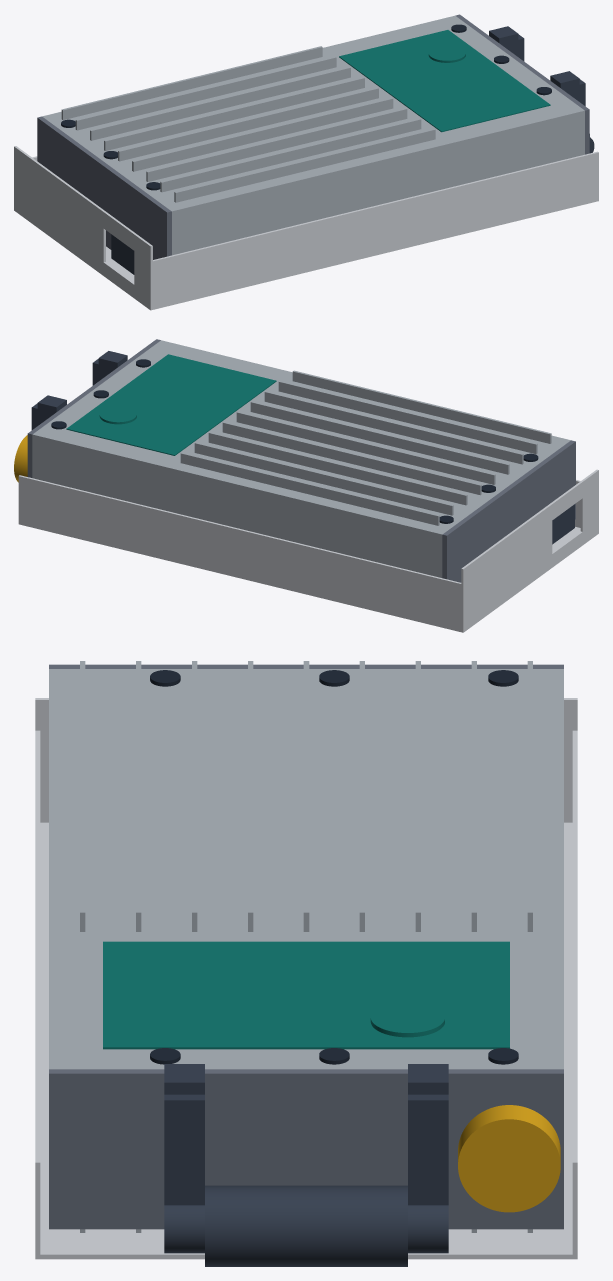
3 views of the same model, one above another, from view 1: azimuth 30°, elevation 25°; view 2: azimuth 150°, elevation 25°; view 3: azimuth 270°, elevation 25° (orthographic). The views are drawn at different scales.
Parts seen in each view (by area): view 1: Cartridge shell, finned aluminium tube, Cabinet adapter frame, Grade label and melt indicator, End cap, keyed end, Handle (folding bail) and keyed nose, End caps with O-ring seals (2), Cap screws, Keyed nose; view 2: Cartridge shell, finned aluminium tube, Cabinet adapter frame, Grade label and melt indicator, End cap, keyed end, Handle (folding bail) and keyed nose, End caps with O-ring seals (2), Cap screws, Keyed nose, Fill port plug and seal; view 3: Cartridge shell, finned aluminium tube, End caps with O-ring seals (2), Grade label and melt indicator, Handle (folding bail) and keyed nose, Cabinet adapter frame, Fill port plug and seal, Cap screws, End cap, keyed end.
Part boxes in pixels (bbox=[...]): Cartridge shell, finned aluminium tube: bbox=[42, 15, 584, 255]; Cabinet adapter frame: bbox=[14, 146, 598, 310]; Grade label and melt indicator: bbox=[339, 30, 550, 132]; End cap, keyed end: bbox=[37, 116, 171, 259]; Handle (folding bail) and keyed nose: bbox=[489, 26, 594, 153]; End caps with O-ring seals (2): bbox=[455, 14, 589, 154]; Cap screws: bbox=[61, 24, 551, 190]; Keyed nose: bbox=[111, 234, 134, 274]; Cartridge shell, finned aluminium tube: bbox=[32, 340, 570, 577]; Cabinet adapter frame: bbox=[18, 469, 598, 632]; Grade label and melt indicator: bbox=[66, 354, 276, 455]; End cap, keyed end: bbox=[442, 440, 575, 582]; Handle (folding bail) and keyed nose: bbox=[31, 351, 127, 429]; End caps with O-ring seals (2): bbox=[27, 339, 160, 477]; Cap screws: bbox=[51, 359, 538, 523]; Keyed nose: bbox=[552, 504, 574, 544]; Fill port plug and seal: bbox=[14, 435, 27, 482]; Cartridge shell, finned aluminium tube: bbox=[49, 661, 563, 1232]; End caps with O-ring seals (2): bbox=[49, 1069, 563, 1229]; Grade label and melt indicator: bbox=[103, 941, 509, 1049]; Handle (folding bail) and keyed nose: bbox=[164, 1064, 448, 1266]; Cabinet adapter frame: bbox=[35, 698, 577, 1259]; Fill port plug and seal: bbox=[458, 1105, 560, 1212]; Cap screws: bbox=[150, 670, 518, 1064]; End cap, keyed end: bbox=[49, 664, 563, 668].
Bounding box in the file's own units: 0.3268 × 0.065 × 0.1604.
